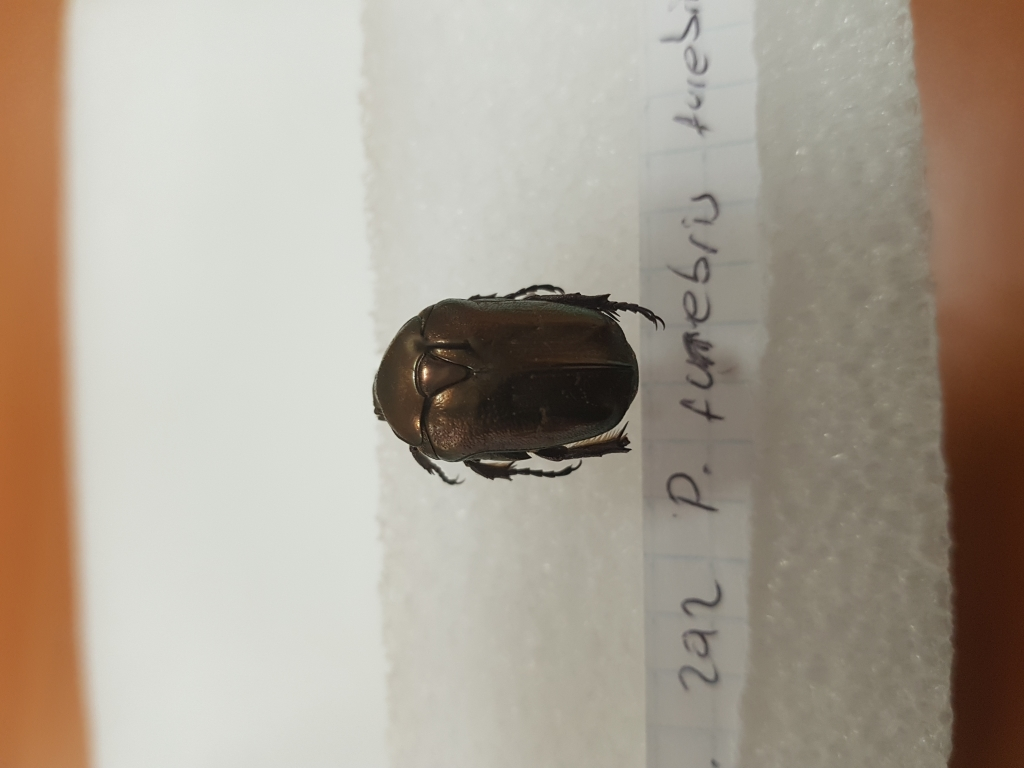Protaetia_funebris: (362, 247, 669, 489)
